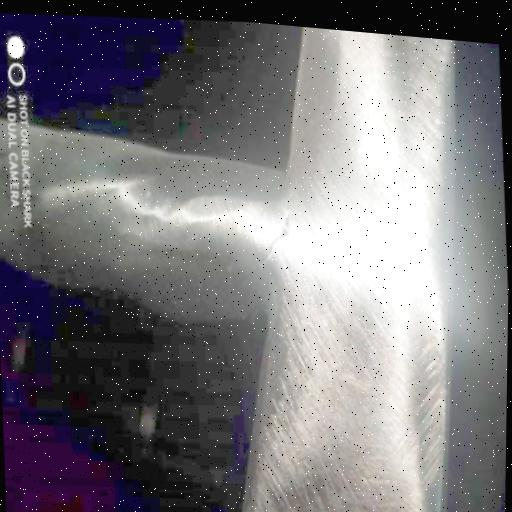crack: (260, 218, 288, 266)
